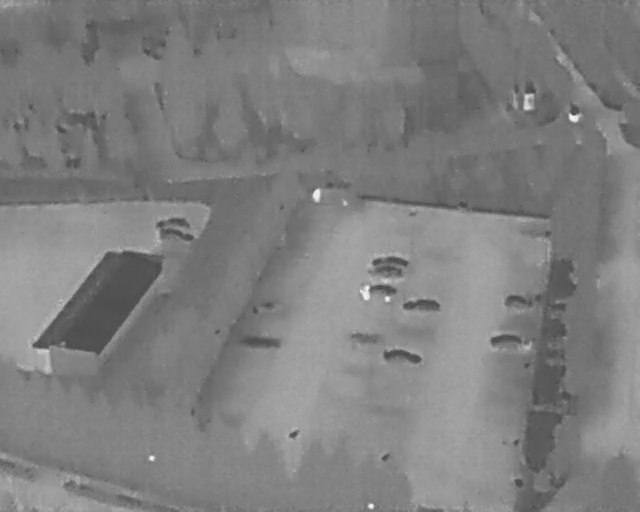Car: (490, 334, 530, 353), (358, 283, 397, 301), (383, 348, 422, 366), (402, 297, 441, 314), (367, 266, 405, 282), (158, 228, 194, 243), (505, 293, 533, 312), (156, 217, 191, 231), (370, 256, 409, 268)
